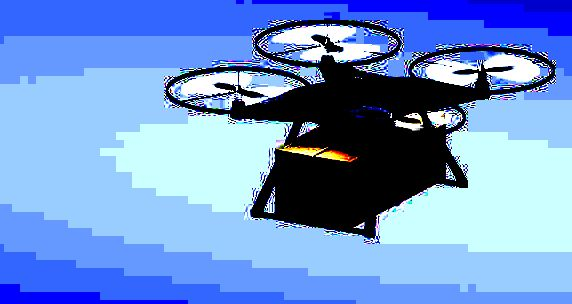Drone: (156, 17, 558, 138)
